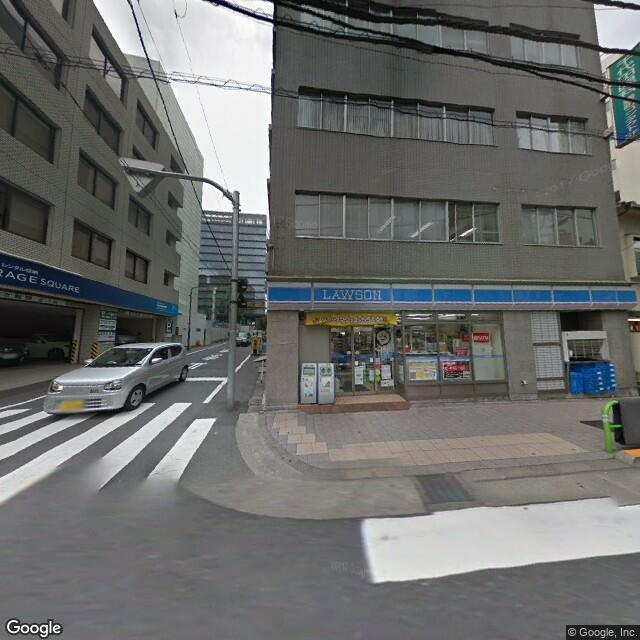lawson: (264, 273, 640, 312)
